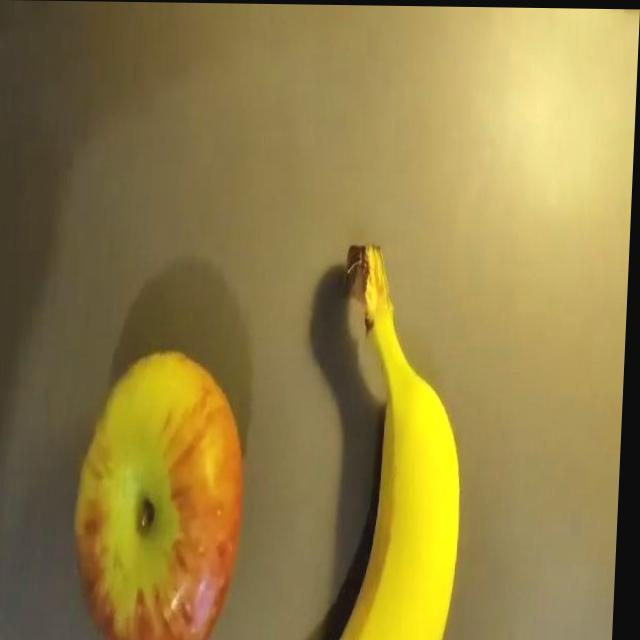Apple: (72, 349, 256, 640)
Banana: (333, 232, 477, 640)
